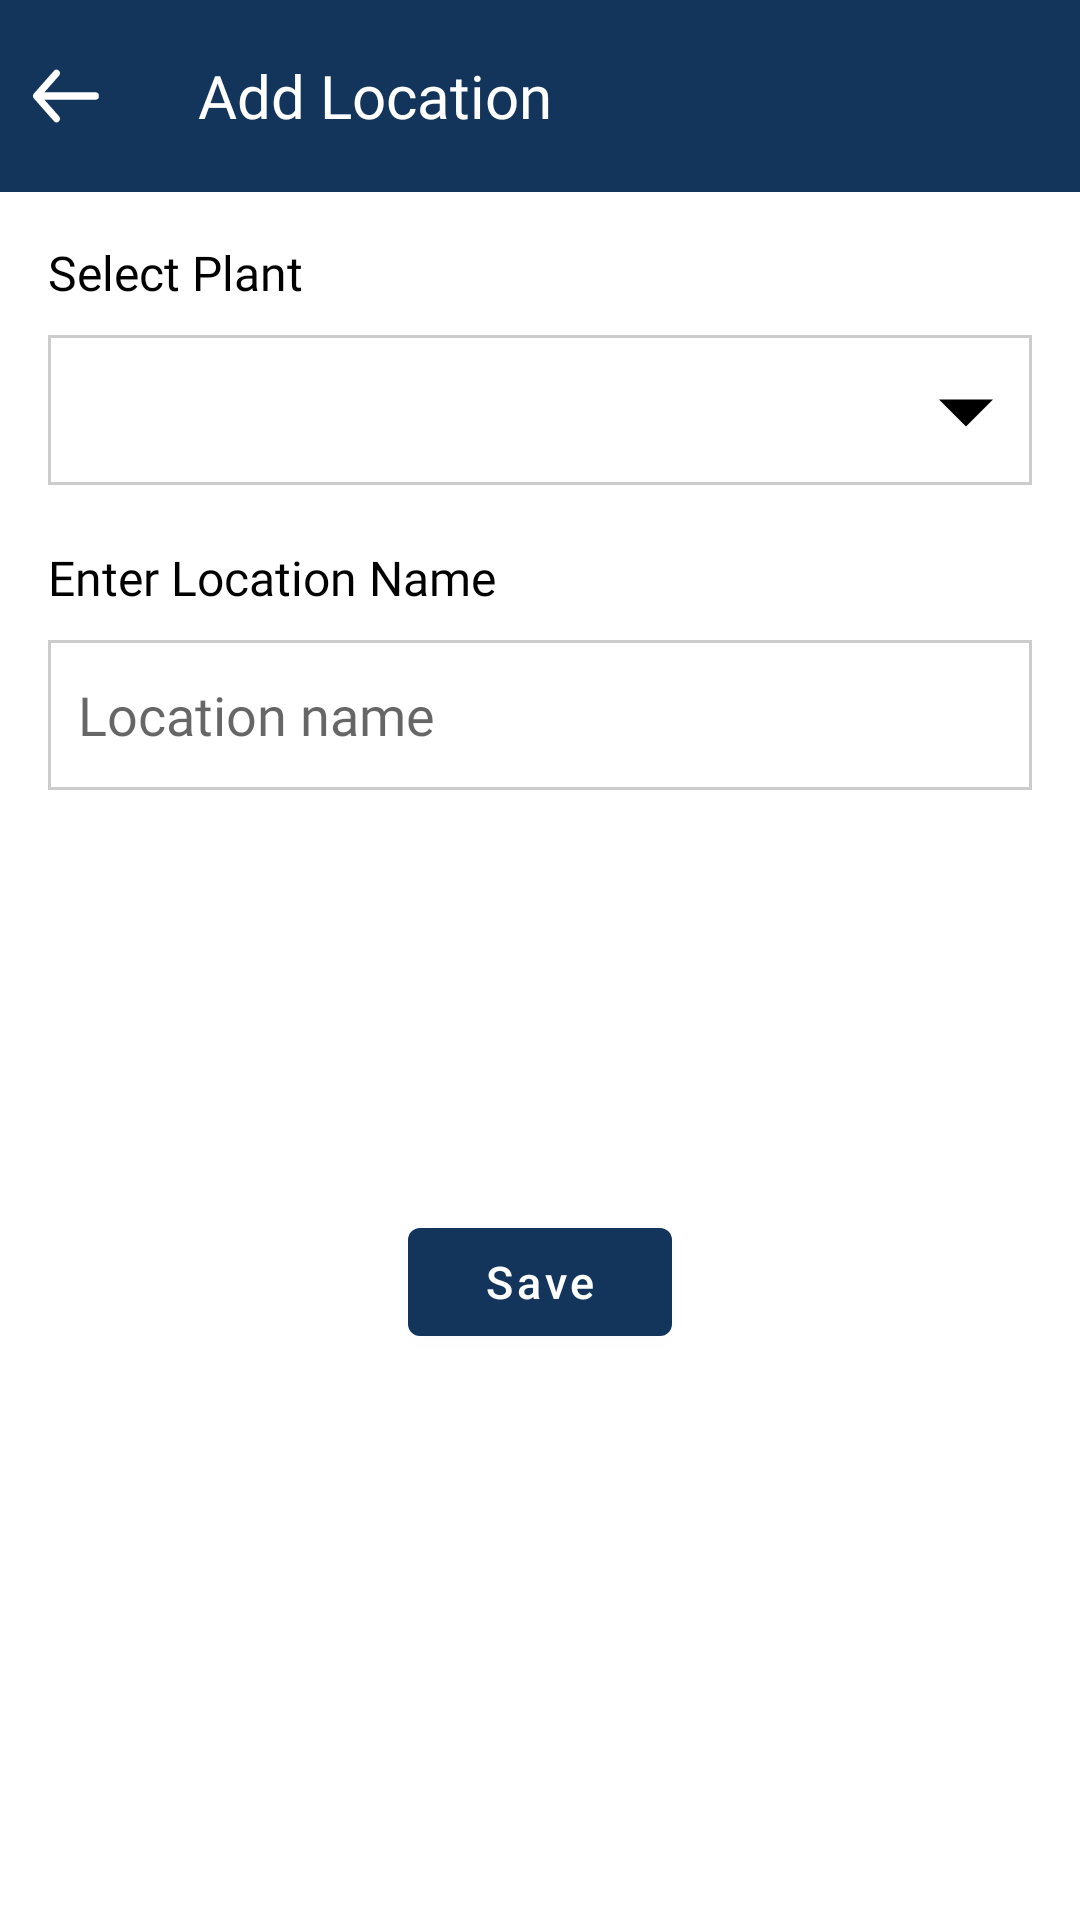

Screen size 1080*1920. Icon name, then its box in pixels as BBox(x1, y1, x2, y2):
back: BBox(33, 69, 99, 123)
dropdown arrow: BBox(939, 399, 993, 427)
